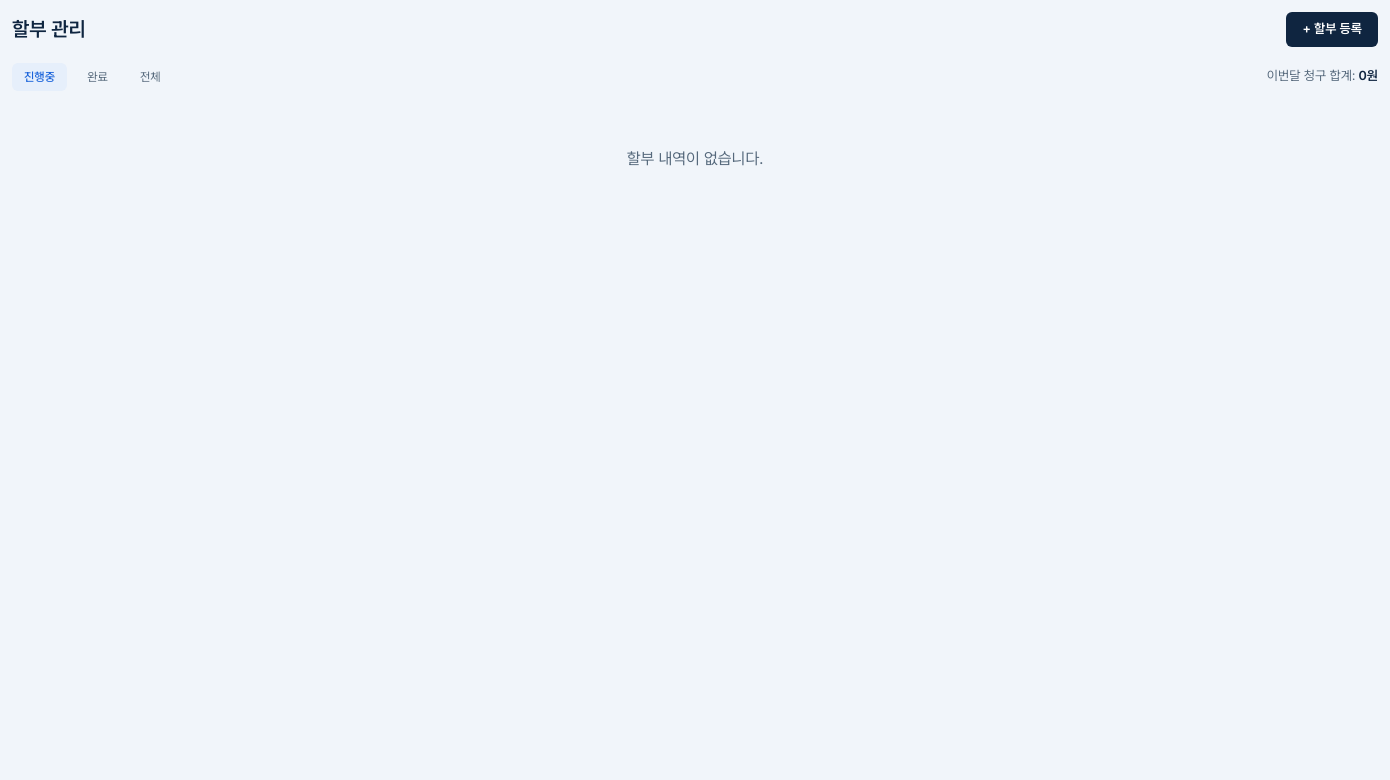
Test: 청구월 계산 근거 문구 › 상품이 여럿이면 확인을 요청한다
Click the button "+ 할부 등록": {"x": 1332, "y": 29} [1286,12,1378,47]
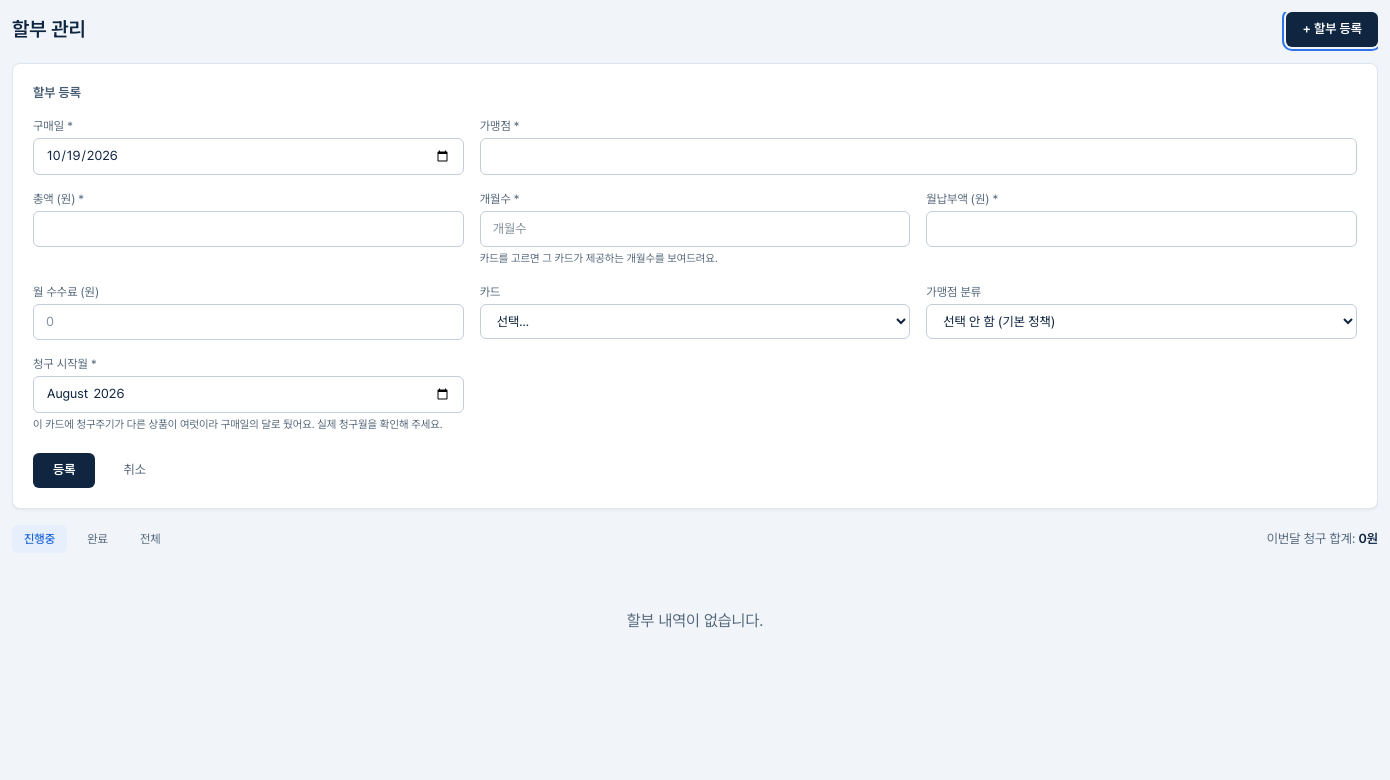
Check: the text "이 카드에 청구주기가 다른 상품이 여럿이라 구매일의 달로 뒀어요. 실제 청구월을 확인해 주세요." is shown, box [33,417,464,433]
